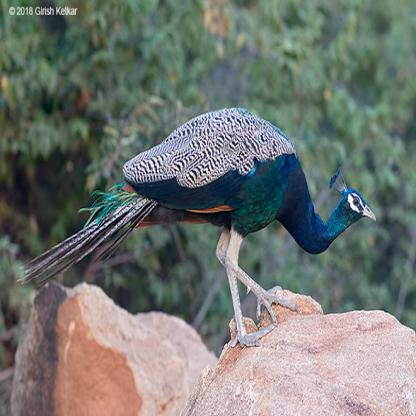Burung: (17, 107, 376, 347)
